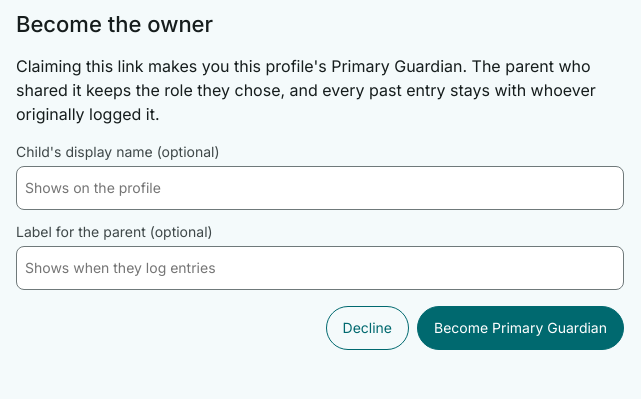
ClaimTransferForm (kind=claim, issue #1255) › a claim failure carries the transfer copy, not the invitation copy
This screenshot has width=641, height=399.
Click the button "Become Primary Guardian" at (520, 328), box [417,306,624,350]
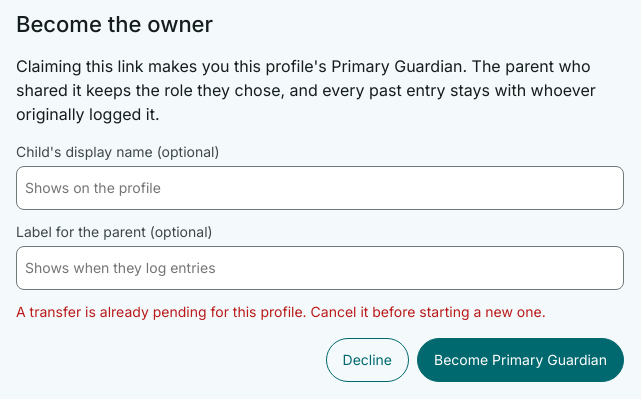
Now the text "A transfer is already pending for this profile. Cancel it before starting a new one." is shown, box [16,303,546,320]
